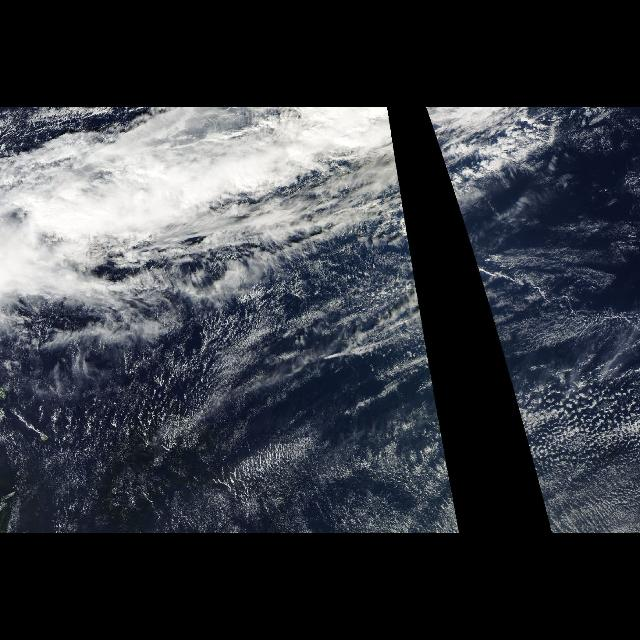Gravel: (304, 358, 460, 530), (502, 358, 638, 530)
Sugar: (3, 352, 460, 532), (479, 205, 639, 368), (507, 371, 639, 533)
